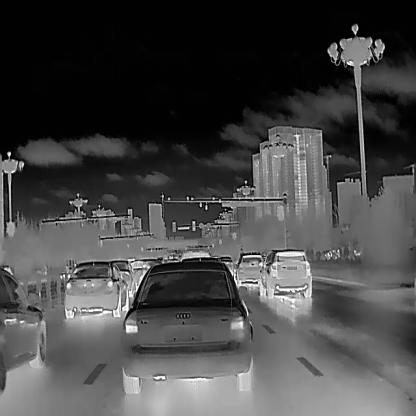car: (122, 258, 254, 394), (0, 267, 46, 391), (61, 257, 129, 317), (258, 247, 311, 297), (106, 258, 134, 308), (233, 252, 264, 287), (131, 259, 162, 294)
